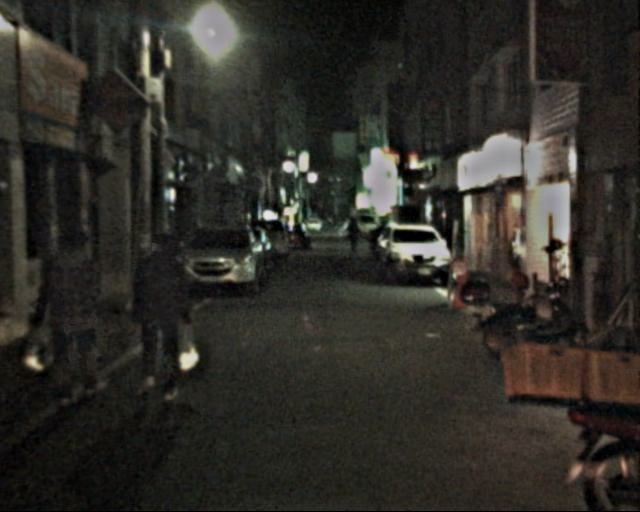person: (35, 221, 110, 406), (122, 232, 199, 399), (342, 218, 362, 257)
